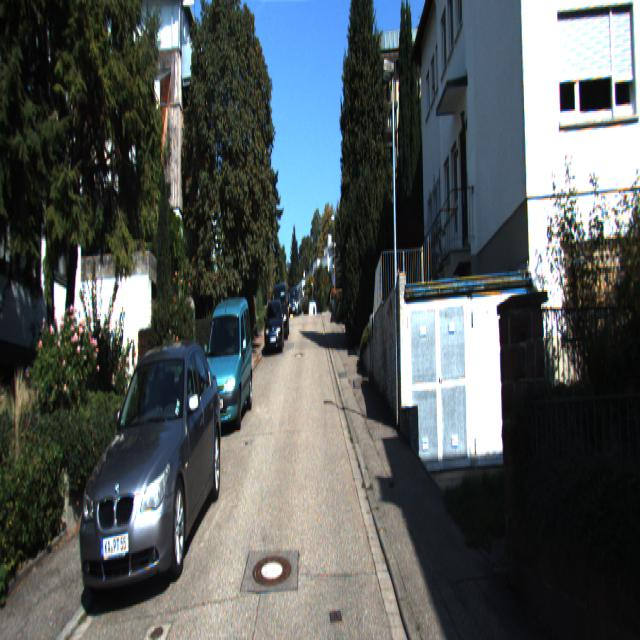Car: (72, 334, 226, 610), (197, 295, 254, 435), (265, 301, 285, 354), (271, 281, 289, 339)
